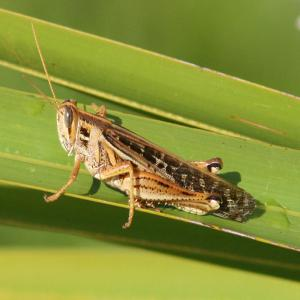locust: (35, 65, 256, 249)
